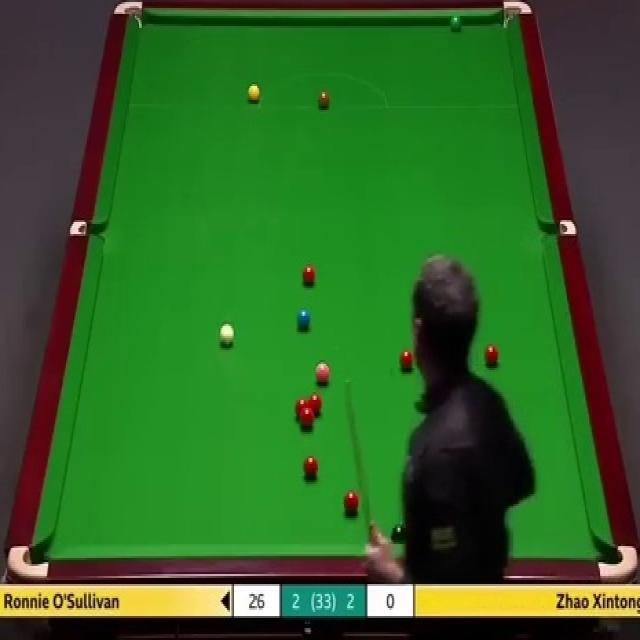black-ball: (390, 525, 408, 544)
blue-ball: (296, 308, 311, 334)
brown-ball: (317, 88, 331, 112)
green-ball: (450, 13, 462, 33)
pink-ball: (314, 361, 330, 384)
red-ball: (302, 454, 319, 482), (342, 491, 360, 515), (400, 348, 415, 372), (485, 344, 499, 368), (302, 263, 316, 286), (300, 406, 314, 428), (308, 394, 322, 413), (296, 398, 308, 414)
white-ball: (219, 321, 236, 346)
yellow-ball: (247, 81, 260, 105)
